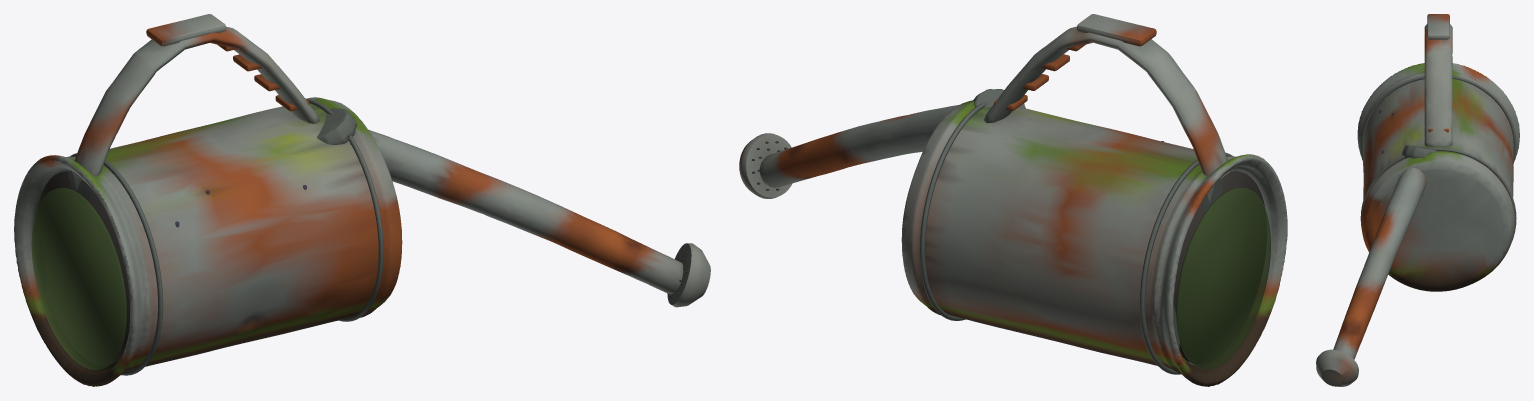
Rendered from mire_watering_can.glb.
3 views of the same model, side by side, from view 1: azimuth 30°, elevation 25°; view 2: azimuth 150°, elevation 25°; view 3: azimuth 270°, elevation 25° (orthographic). The views are drawn at different scales.
Visible parts, largest first — view 1: mire_watering_can; view 2: mire_watering_can; view 3: mire_watering_can.
Part boxes in pixels (x1,y1,x2,y2): mire_watering_can: [14, 14, 710, 386]; mire_watering_can: [739, 14, 1287, 386]; mire_watering_can: [1316, 14, 1519, 386].
Size of the model in its own units: 52.97 by 29.38 by 24.44.
